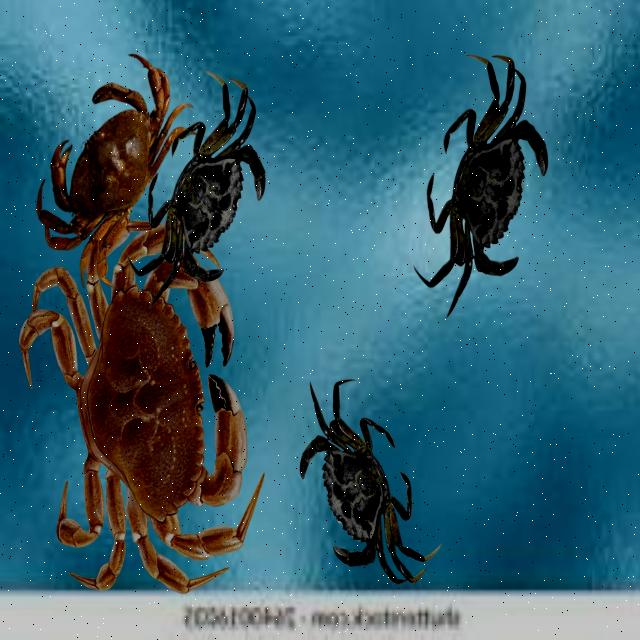European_Green_Crab: (385, 35, 583, 342), (255, 352, 459, 621), (109, 60, 300, 333)
